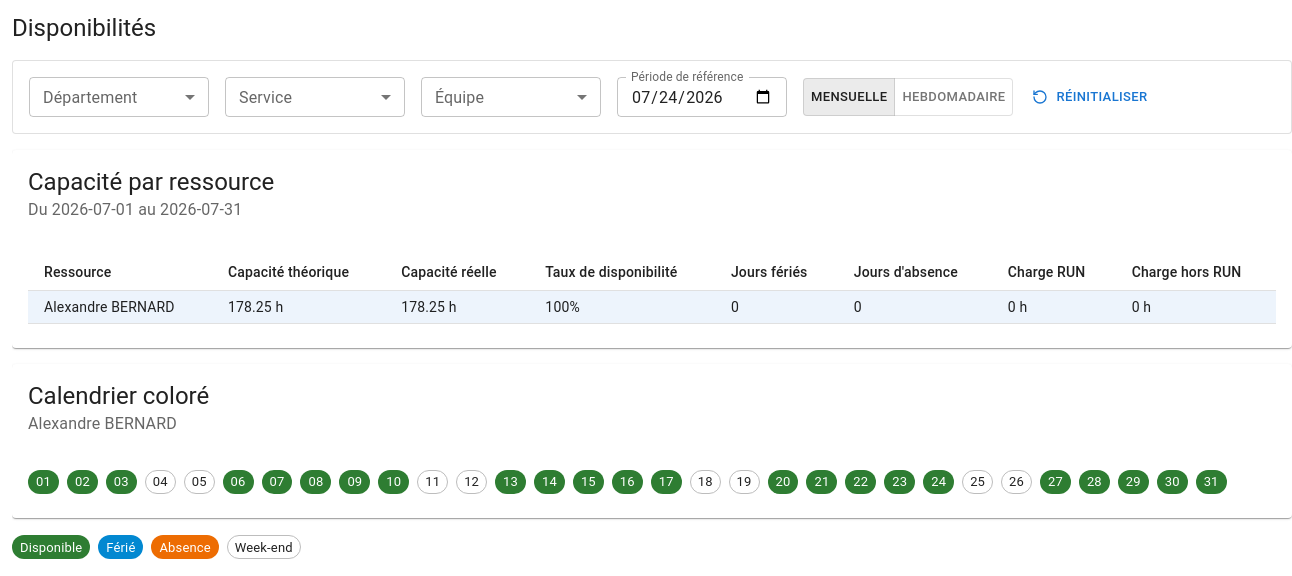
Test case: AvailabilityPage › refetches with weekly bounds when switching to the Hebdomadaire view
Type "2026-07-20" into the date field labelled "Période de référence". click: [702, 97]
box: [617,77,787,117]
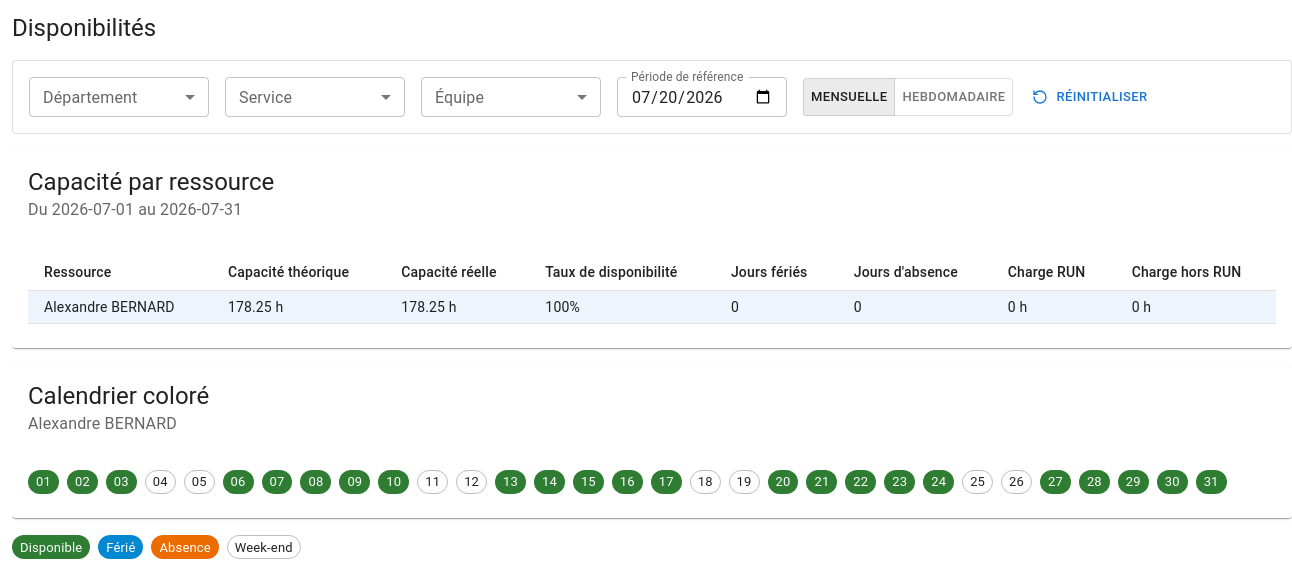
Expected: the text "Du 2026-07-01 au 2026-07-31" is shown, [28,200,242,219]
Click the button "Hebdomadaire". click: [954, 97]
box: [894,78,1013,116]
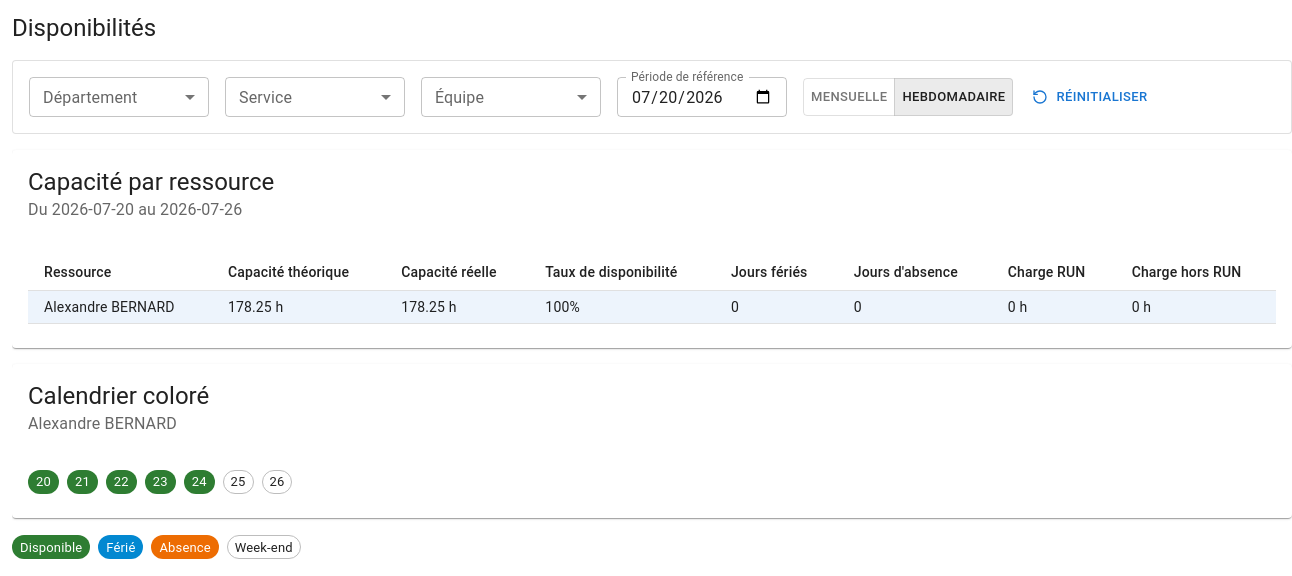
Result: the text "Du 2026-07-20 au 2026-07-26" is shown at [28,200,242,219]
